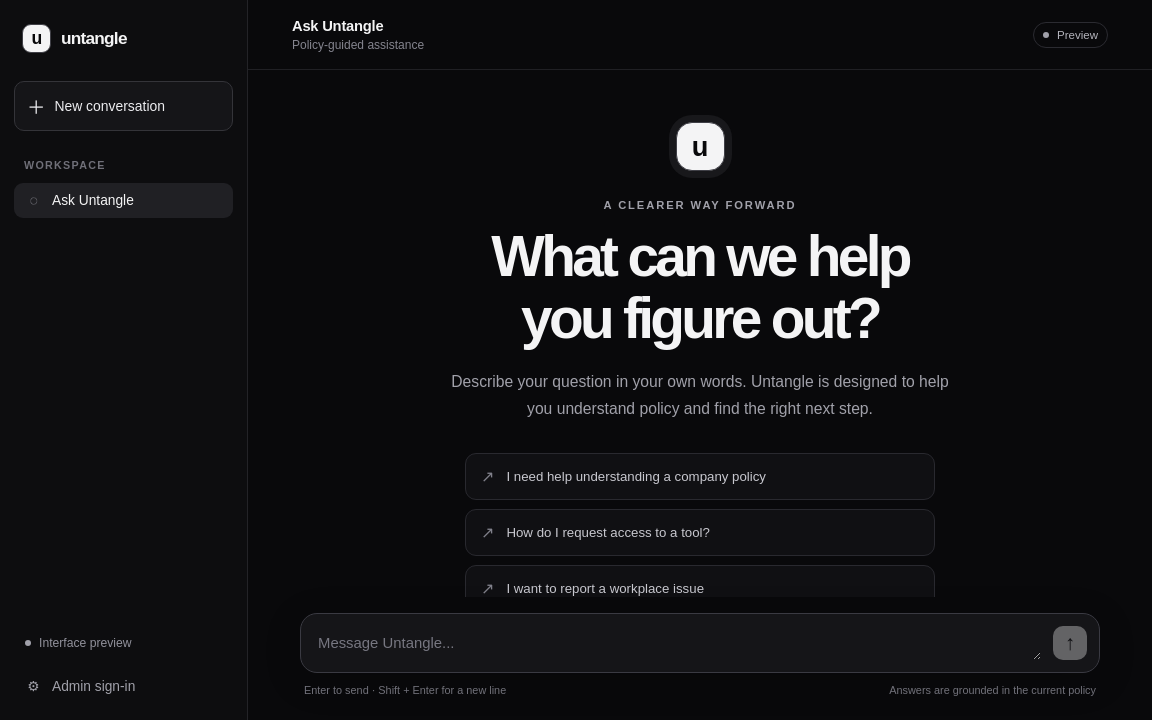
Scenario: User mode › submits a query and renders the grounded answer and source labels
In the text box labelled "Message Untangle": (680, 643) x1=318 y1=627 x2=1041 y2=660, type "Can I take leave?"
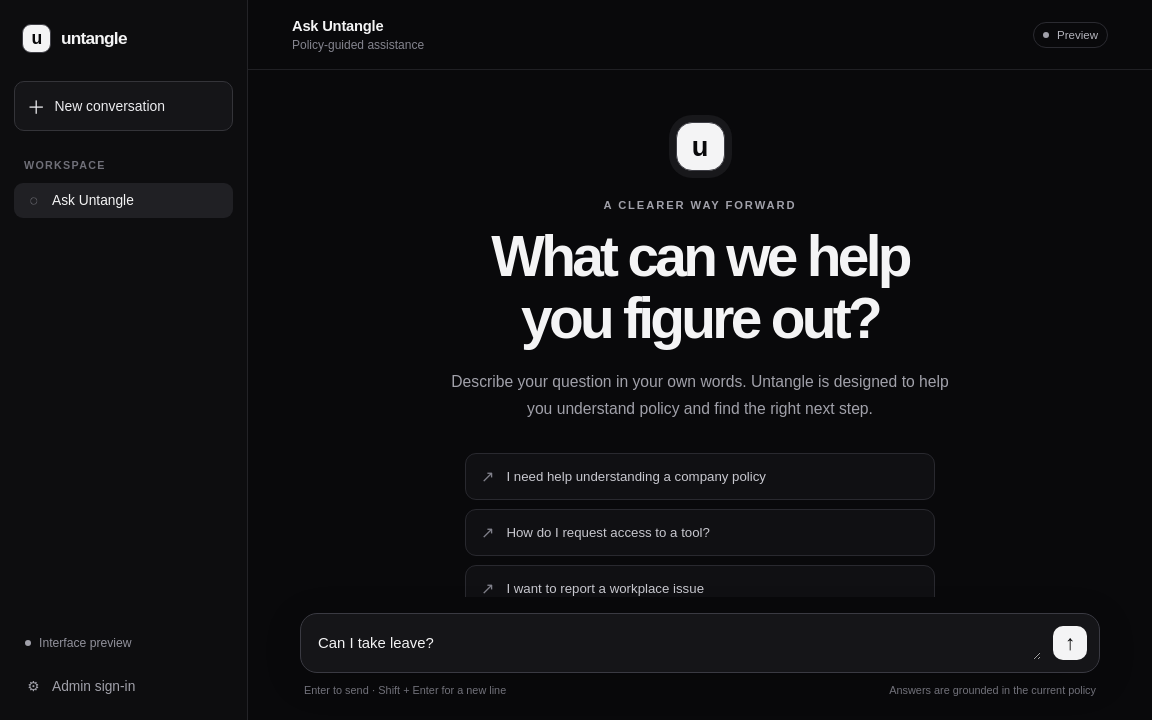
Click the button named "Send message": (1070, 643) x1=1053 y1=626 x2=1087 y2=660
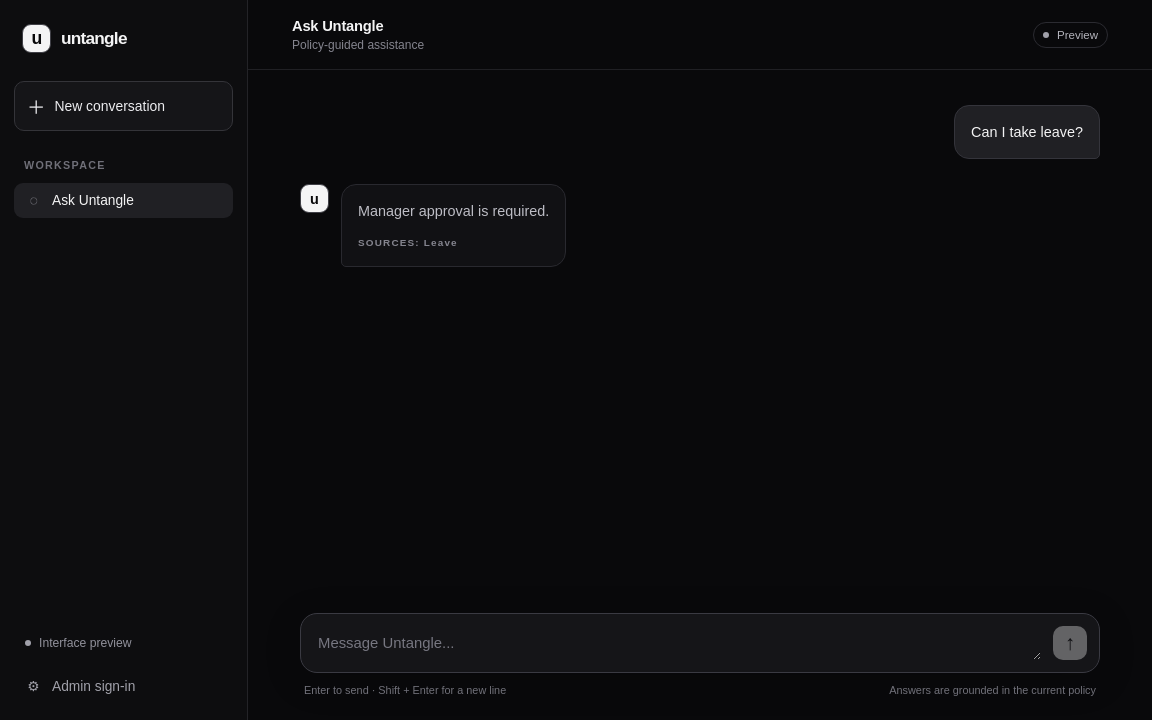
Expected: the text "Manager approval is required." is shown, x1=358 y1=200 x2=549 y2=224
Expected: the text "SOURCES: Leave" is shown, x1=358 y1=237 x2=458 y2=248
